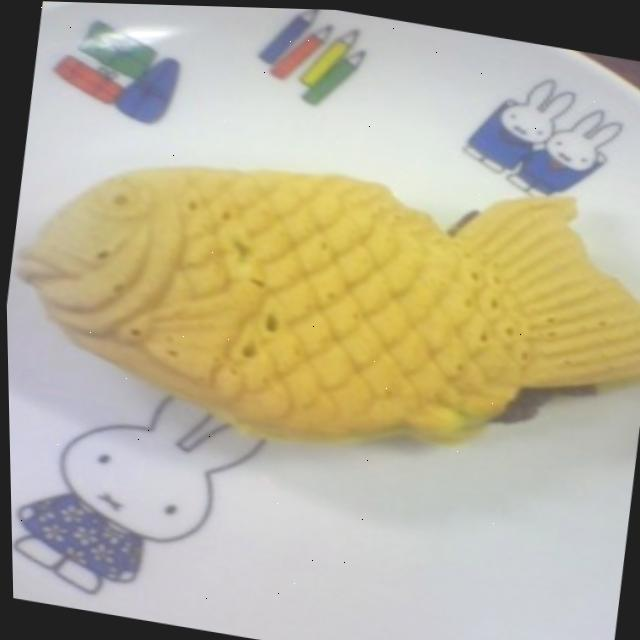熟制海鲜: (1, 74, 640, 509)
